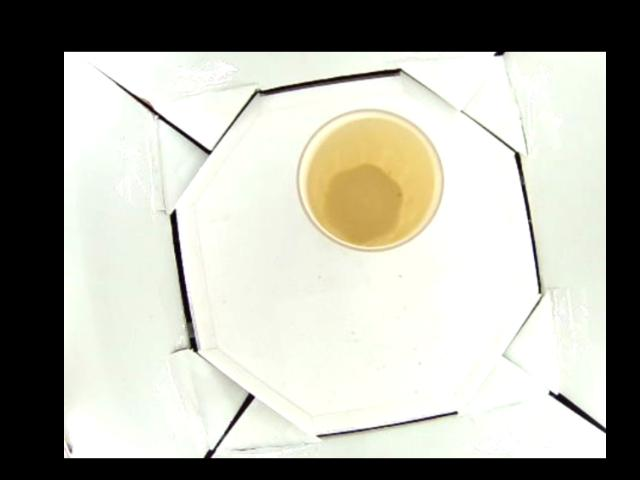Cup: (296, 105, 445, 251)
